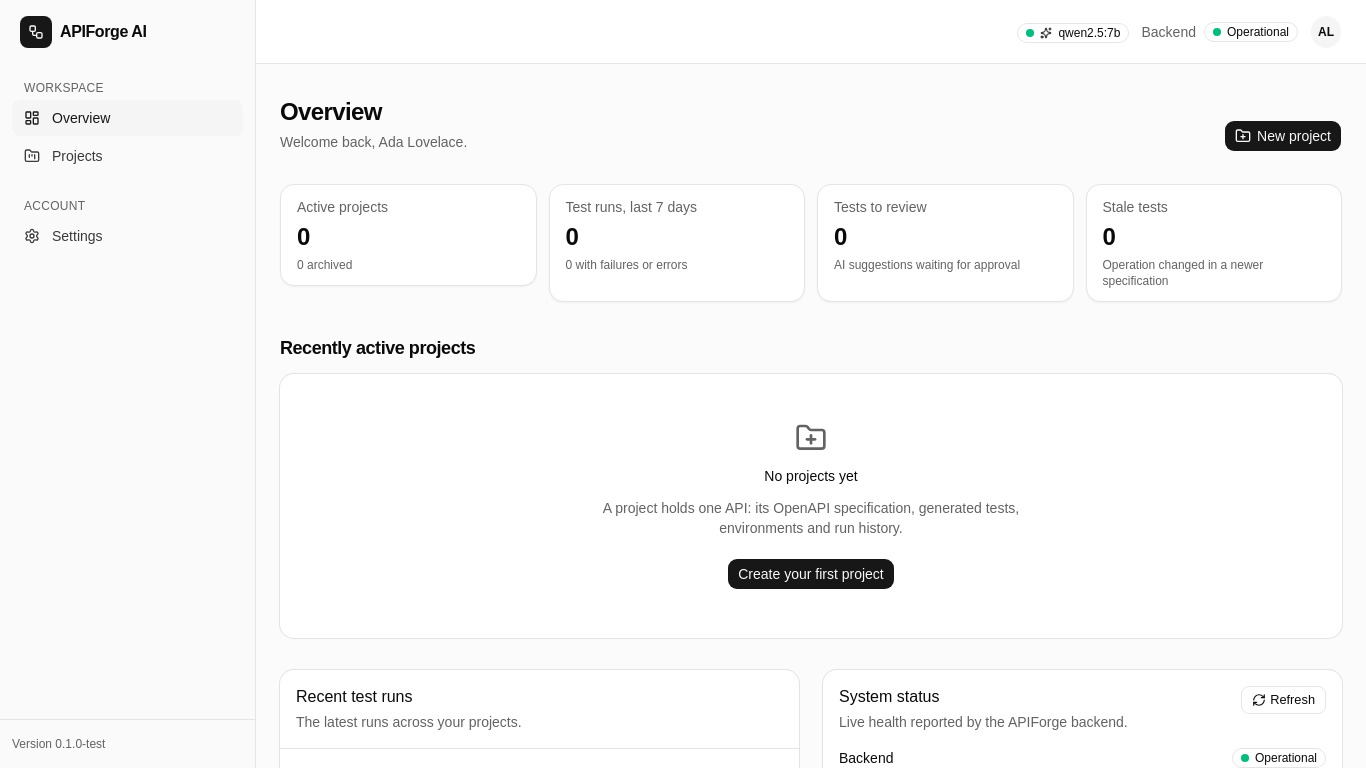
Test: AI status › shows the configured model and lets you check again
Click the button with aria-label "AI: Ready" at {"x": 1073, "y": 32}, box [1017,20,1130,44]
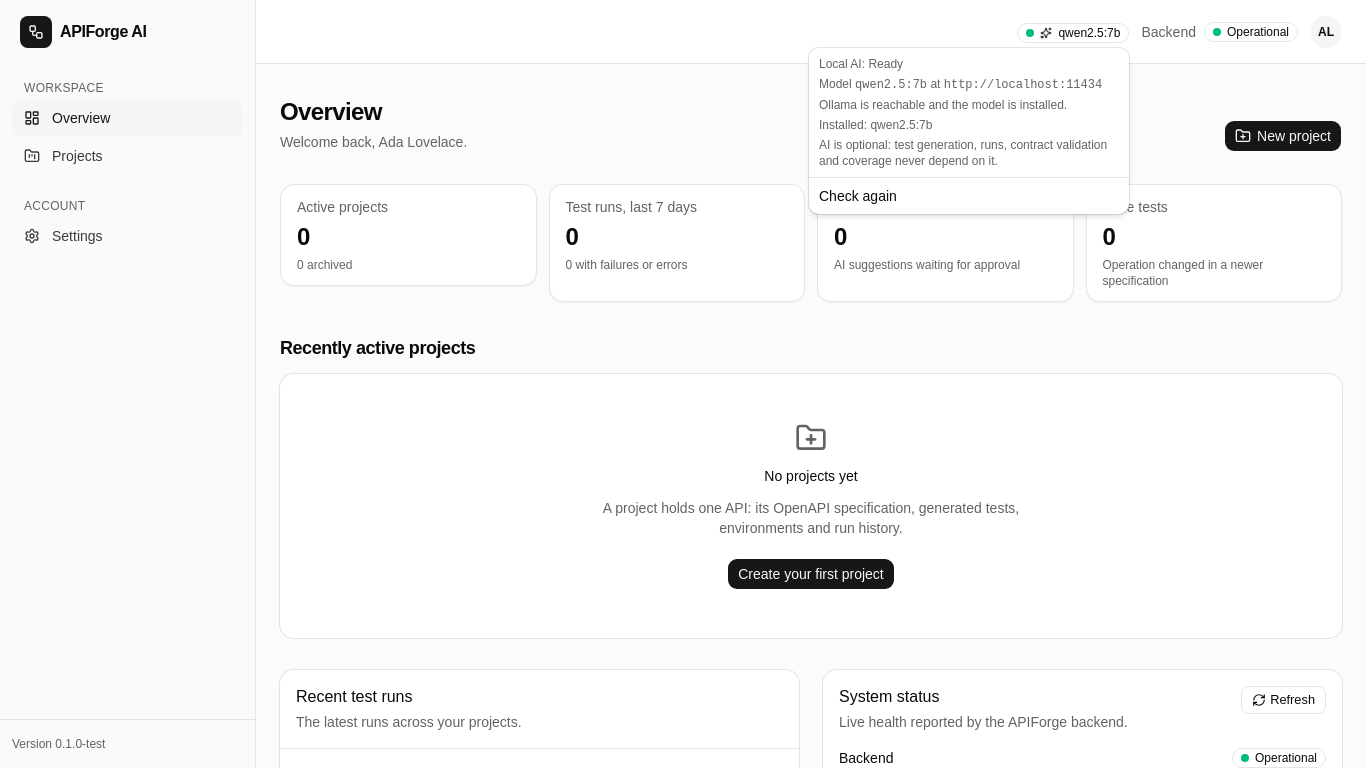
Expected: the text "Ollama is reachable and the model is installed." is shown, [819,98,1067,112]
Expected: the text "never depend on it" is shown, [819,138,1107,168]
Click the menu item "Check again" at {"x": 858, "y": 196}, box [819,188,897,204]
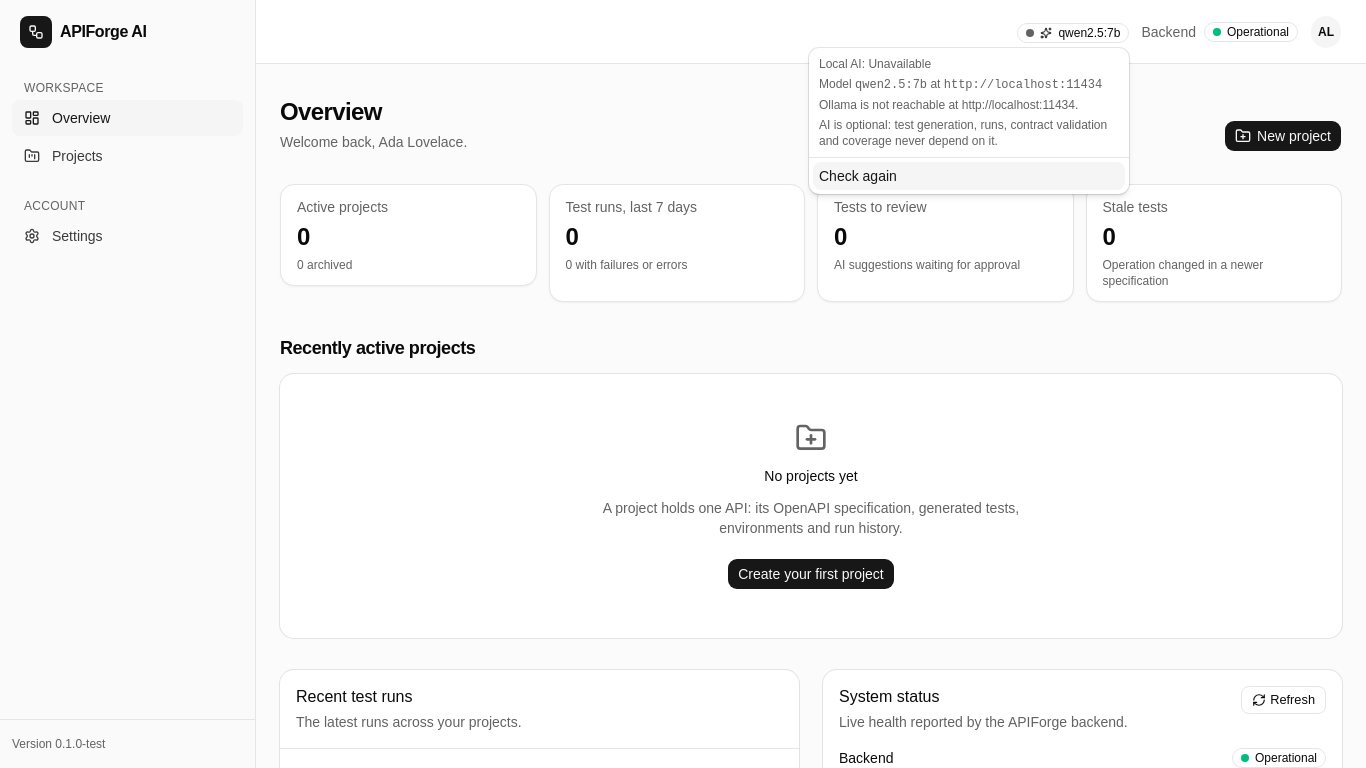
Expected: the text "Ollama is not reachable at http://localhost:11434." is shown, [819,97,1119,113]
